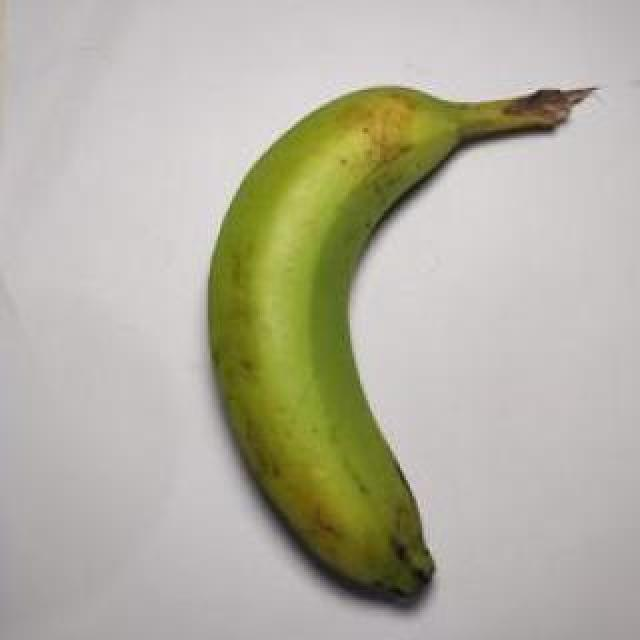Unripe: (203, 84, 573, 602)
